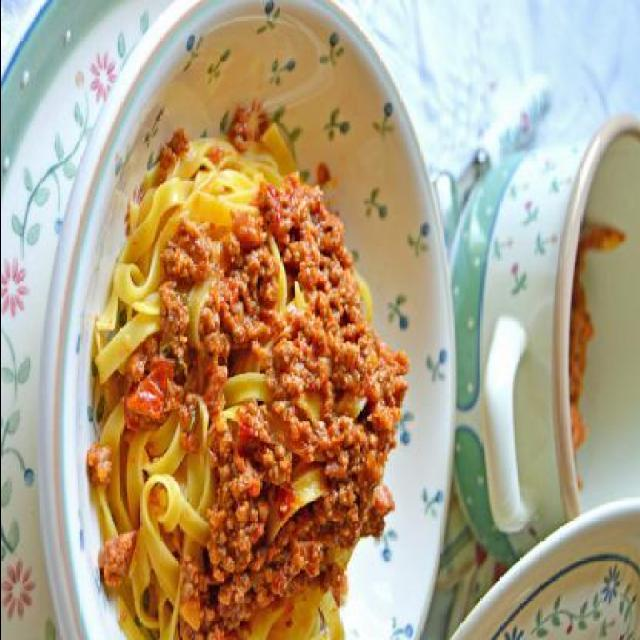Pasta al ragu: (70, 91, 438, 640)
